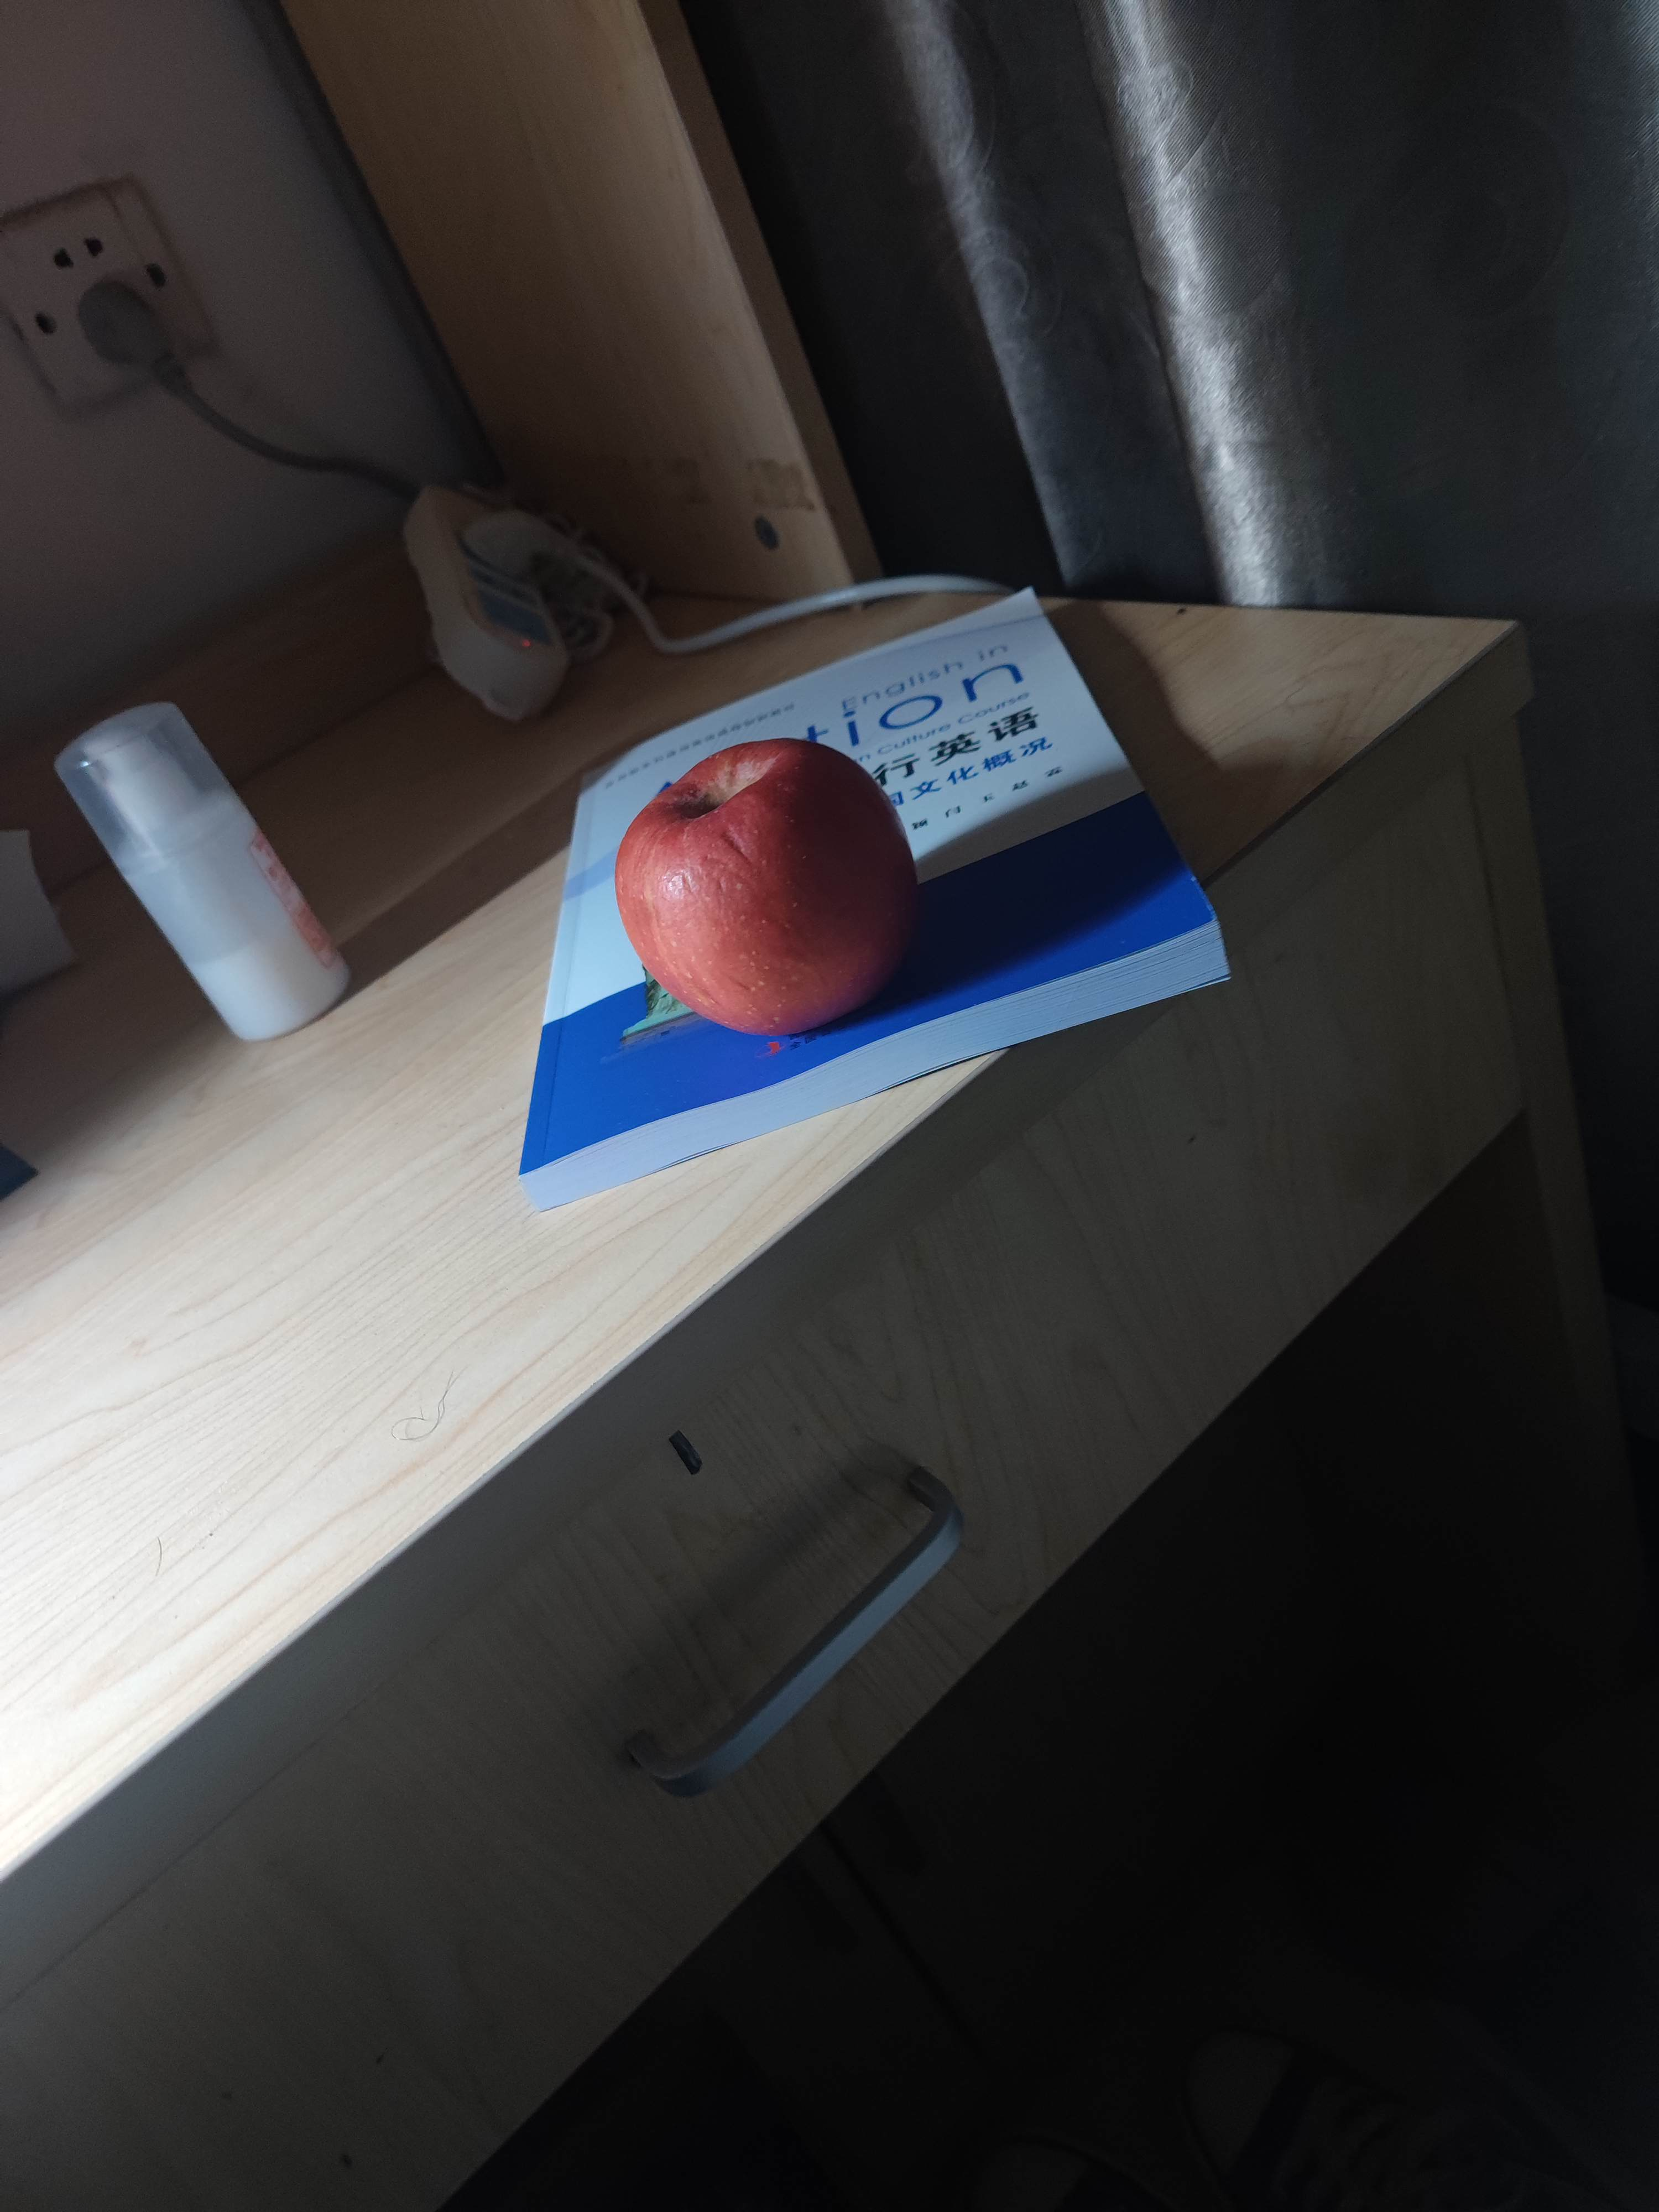apple: (612, 738, 922, 1033)
